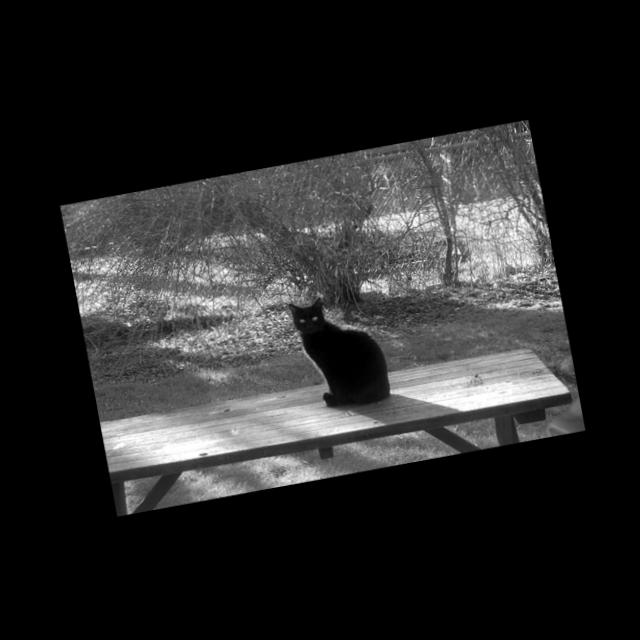animals: (289, 296, 324, 330)
